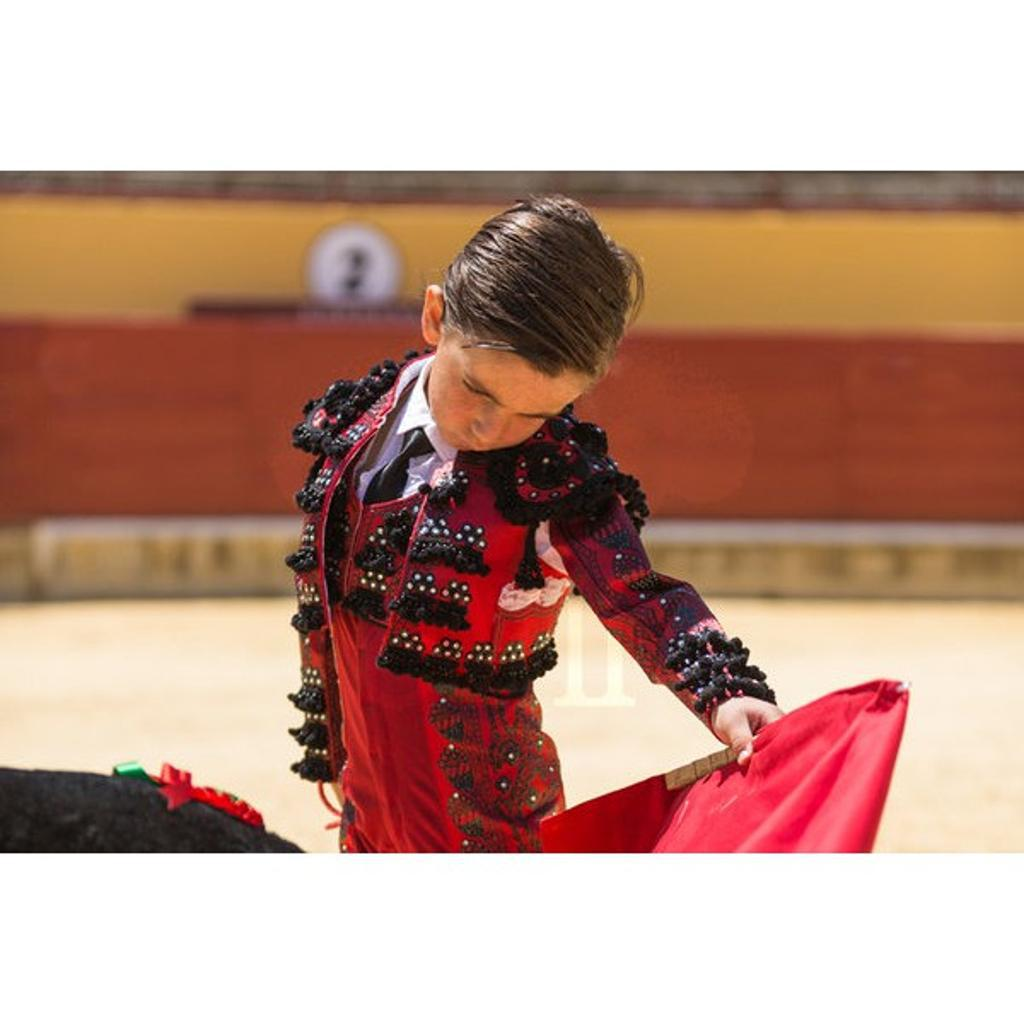face: (433, 337, 589, 453)
